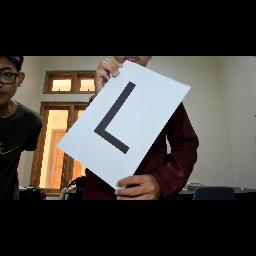l: (88, 80, 148, 162)
